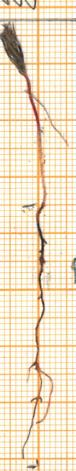flower: (0, 18, 40, 78)
root: (14, 205, 57, 462)
stem: (22, 79, 51, 205)
